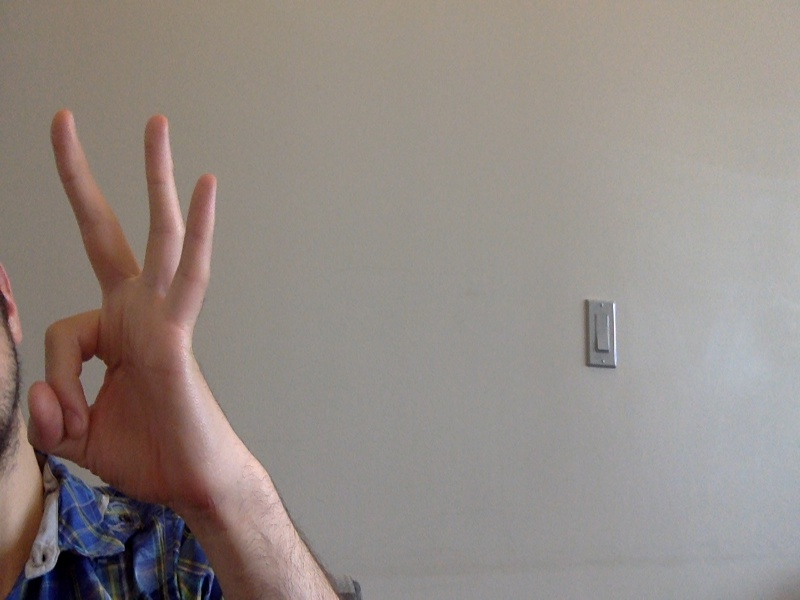3-hand: (27, 111, 261, 506)
